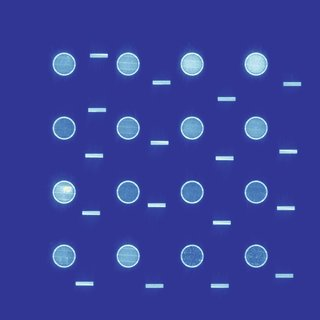overheated: (63, 185, 72, 194)
